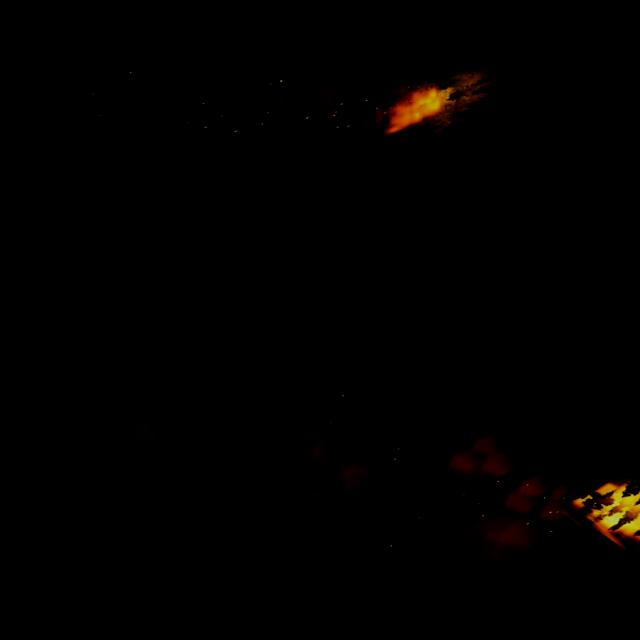fire: (366, 78, 452, 140), (580, 469, 640, 556)
smoke: (405, 299, 640, 575), (0, 5, 290, 208), (0, 281, 238, 491), (269, 416, 412, 568), (272, 36, 386, 150), (213, 312, 260, 353), (317, 383, 360, 425), (274, 304, 313, 340)
